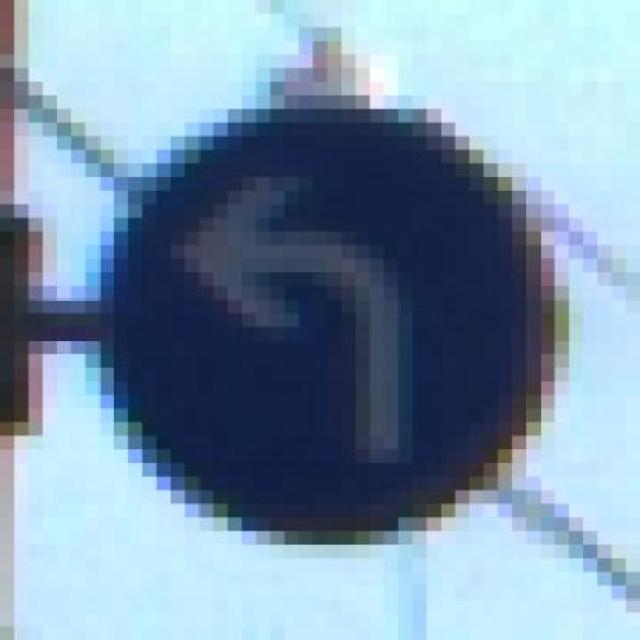Turn left ahead: (71, 82, 569, 572)
